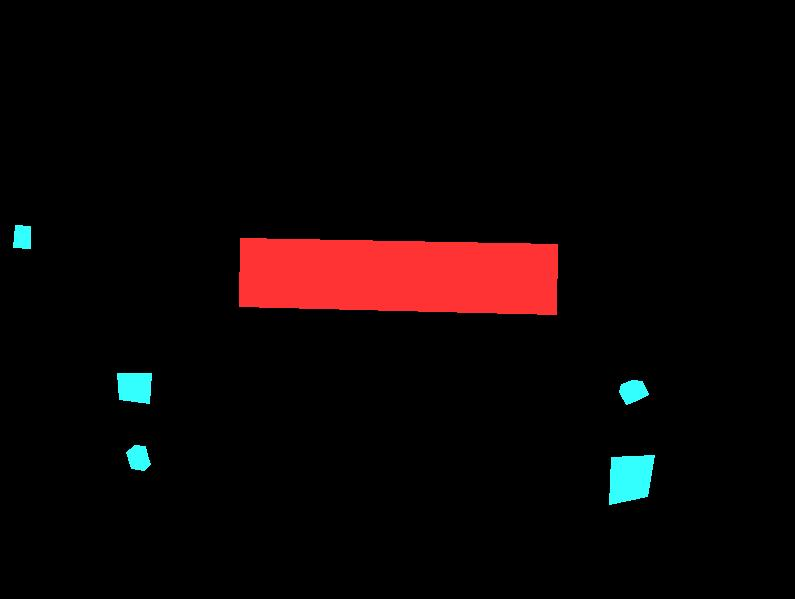Flaking: (609, 455, 654, 504), (117, 373, 151, 403), (619, 380, 648, 404), (126, 445, 150, 470), (13, 225, 30, 248)
Missing part: (239, 238, 557, 314)
